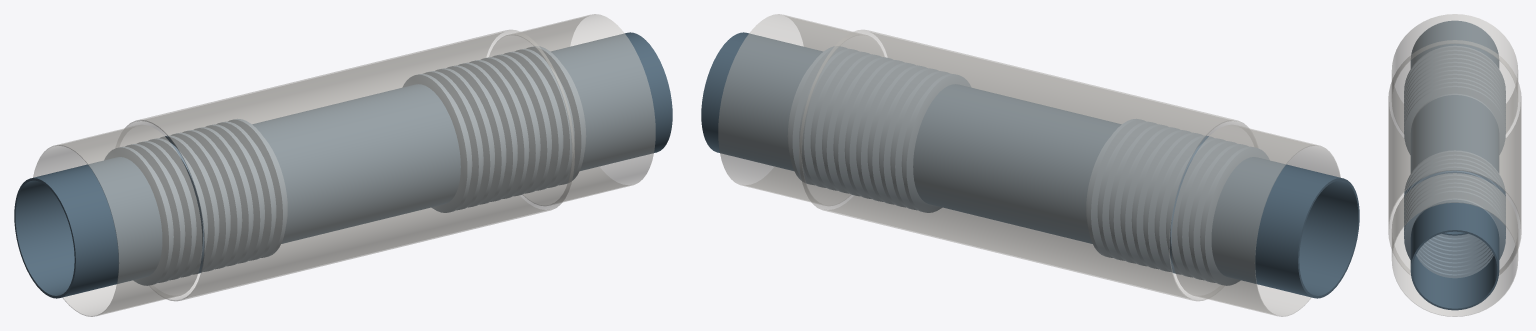
The model's file is 2ppu-dn400-L2380-D426-k-o642.glb.
The picture shows the model from 3 angles, left to right: view 1: azimuth 30°, elevation 25°; view 2: azimuth 150°, elevation 25°; view 3: azimuth 270°, elevation 25°; orthographic projection. The views are drawn at different scales.
Parts seen in each view (by area): view 1: uslovno_kozhuh_ppu, prokladka_silfon_1, prokladka_silfon_2, uslovno_obolochka_l, patrubok_1, uslovno_obolochka_r, patrubok_3, patrubok_4, patrubok_2; view 2: uslovno_kozhuh_ppu, prokladka_silfon_1, prokladka_silfon_2, uslovno_obolochka_l, patrubok_1, uslovno_obolochka_r, patrubok_3, patrubok_4, patrubok_2; view 3: uslovno_kozhuh_ppu, prokladka_silfon_2, uslovno_obolochka_r, patrubok_4, prokladka_silfon_1, uslovno_obolochka_l, patrubok_2, patrubok_3, patrubok_1.
Boxes of the visible parts, left/top/right/bottom form: uslovno_kozhuh_ppu: left=119, top=29, right=574, bottom=301; prokladka_silfon_1: left=104, top=119, right=287, bottom=285; prokladka_silfon_2: left=402, top=46, right=586, bottom=212; uslovno_obolochka_l: left=33, top=124, right=202, bottom=316; patrubok_1: left=14, top=157, right=162, bottom=298; uslovno_obolochka_r: left=489, top=14, right=655, bottom=205; patrubok_3: left=331, top=84, right=460, bottom=224; patrubok_4: left=551, top=32, right=672, bottom=170; patrubok_2: left=252, top=105, right=374, bottom=243; uslovno_kozhuh_ppu: left=799, top=29, right=1254, bottom=301; prokladka_silfon_1: left=1086, top=119, right=1269, bottom=285; prokladka_silfon_2: left=787, top=46, right=971, bottom=212; uslovno_obolochka_l: left=1171, top=124, right=1340, bottom=316; patrubok_1: left=1211, top=157, right=1359, bottom=298; uslovno_obolochka_r: left=718, top=14, right=884, bottom=205; patrubok_3: left=913, top=84, right=1042, bottom=224; patrubok_4: left=701, top=32, right=822, bottom=170; patrubok_2: left=999, top=105, right=1121, bottom=243; uslovno_kozhuh_ppu: left=1388, top=40, right=1521, bottom=274; prokladka_silfon_2: left=1404, top=150, right=1505, bottom=278; uslovno_obolochka_r: left=1391, top=173, right=1518, bottom=316; patrubok_4: left=1410, top=199, right=1499, bottom=310; prokladka_silfon_1: left=1404, top=45, right=1505, bottom=154; uslovno_obolochka_l: left=1391, top=14, right=1518, bottom=133; patrubok_2: left=1410, top=95, right=1499, bottom=162; patrubok_3: left=1410, top=125, right=1499, bottom=235; patrubok_1: left=1410, top=20, right=1499, bottom=68.
Size of the model in its own units: 2380 by 642 by 642.
